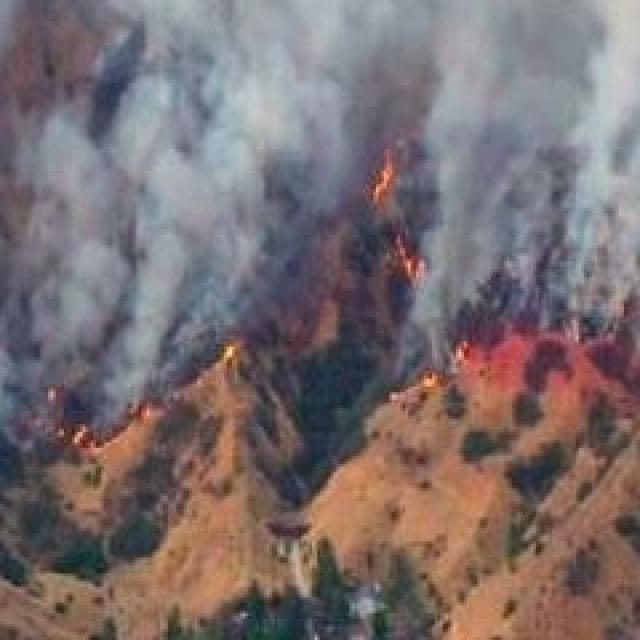Fire: (364, 144, 415, 210), (52, 420, 106, 455), (391, 242, 436, 278), (403, 372, 448, 393), (130, 407, 178, 425), (448, 343, 476, 366)
Smoke: (0, 0, 640, 364)
